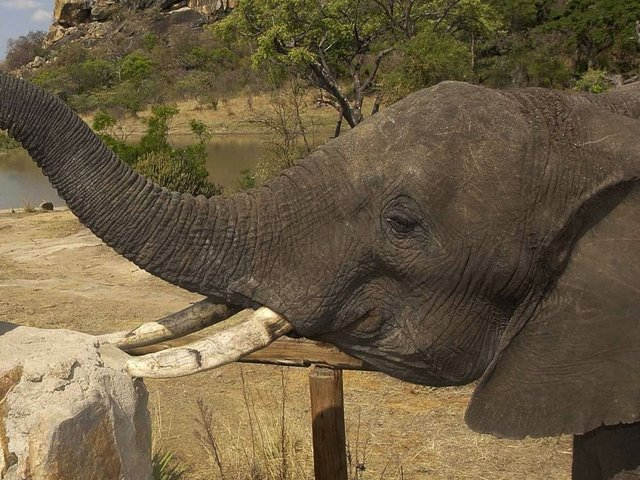elephant: (1, 44, 638, 480)
